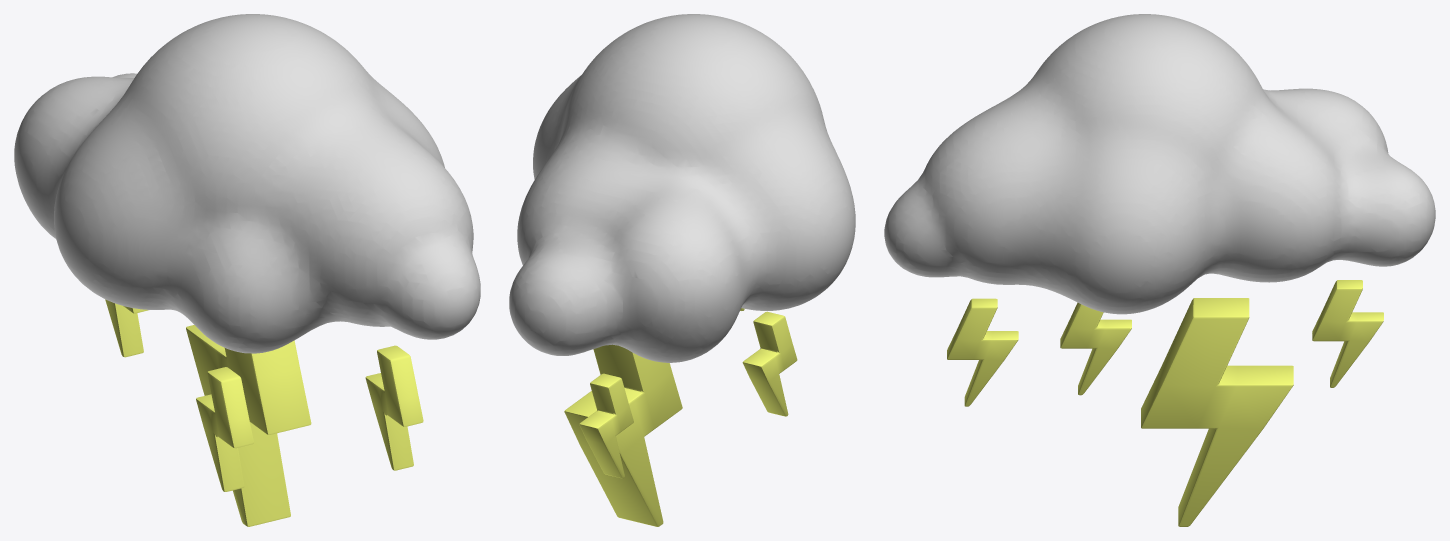
The model's file is mrakBlesky.fbx.
3 renders of one model, left to right at view 1: azimuth 30°, elevation 25°; view 2: azimuth 150°, elevation 25°; view 3: azimuth 270°, elevation 25°, orthographic. The views are drawn at different scales.
Parts seen in each view (by area): view 1: Mball.001, Plane.001; view 2: Mball.001, Plane.001; view 3: Mball.001, Plane.001.
Part boxes in pixels (left/top/right/bottom): Mball.001: left=14, top=14, right=480, bottom=353; Plane.001: left=105, top=299, right=423, bottom=526; Mball.001: left=509, top=14, right=855, bottom=362; Plane.001: left=564, top=308, right=797, bottom=526; Mball.001: left=884, top=14, right=1435, bottom=314; Plane.001: left=947, top=280, right=1383, bottom=526.
Bounding box in the file's own units: 269 × 387 × 407.
